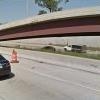Bridge: (5, 2, 97, 42)
